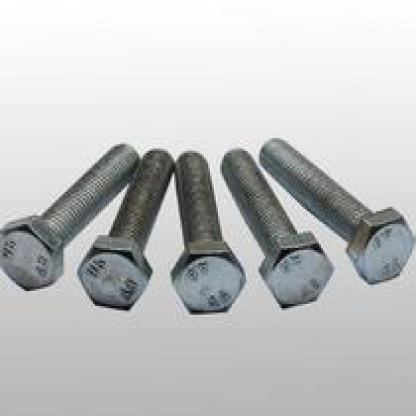FOD: (256, 131, 414, 291), (0, 138, 143, 293), (219, 144, 334, 310), (74, 148, 176, 312), (170, 149, 248, 321)
